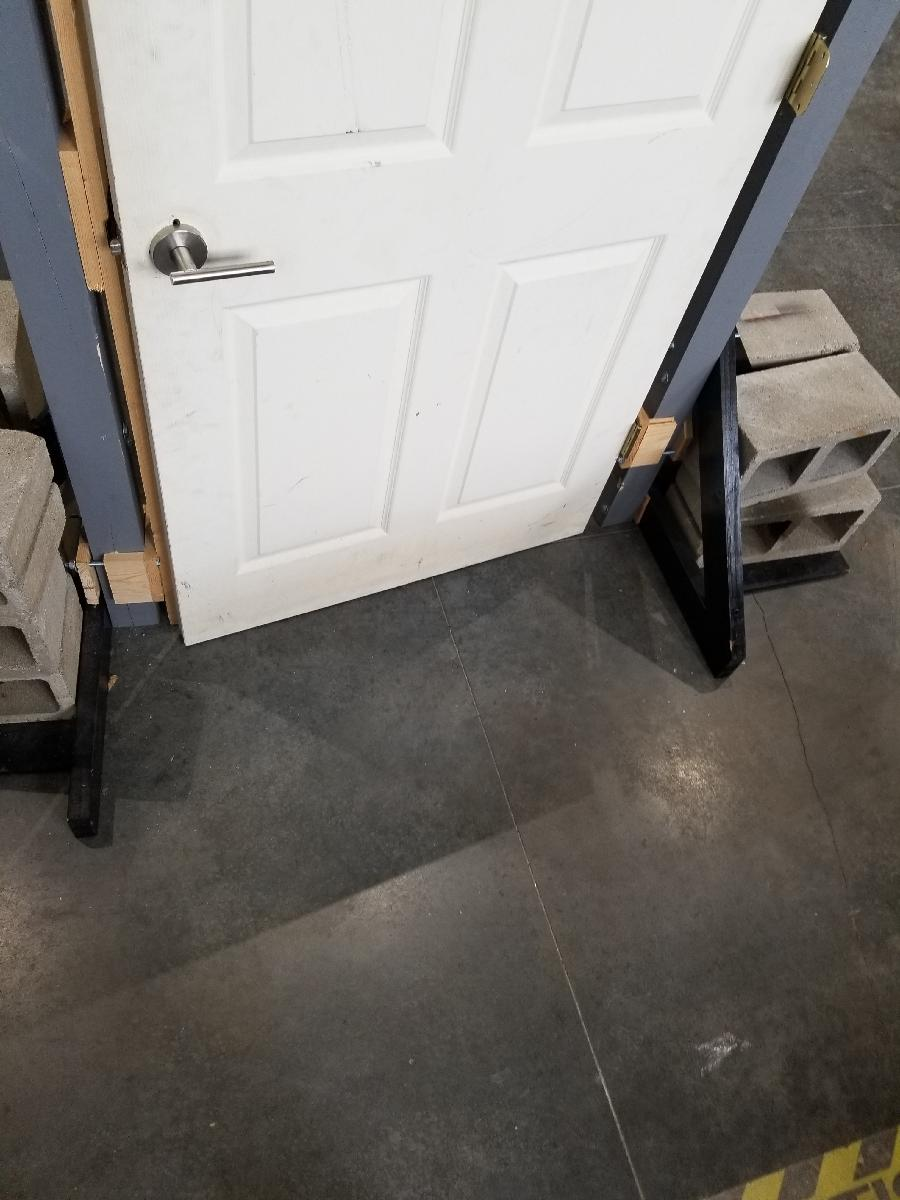doorHandle: (142, 215, 280, 290)
